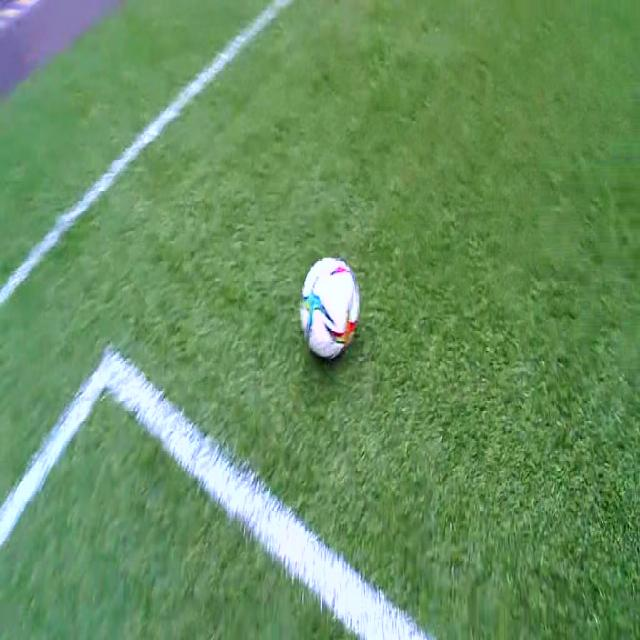ball: (301, 258, 358, 354)
